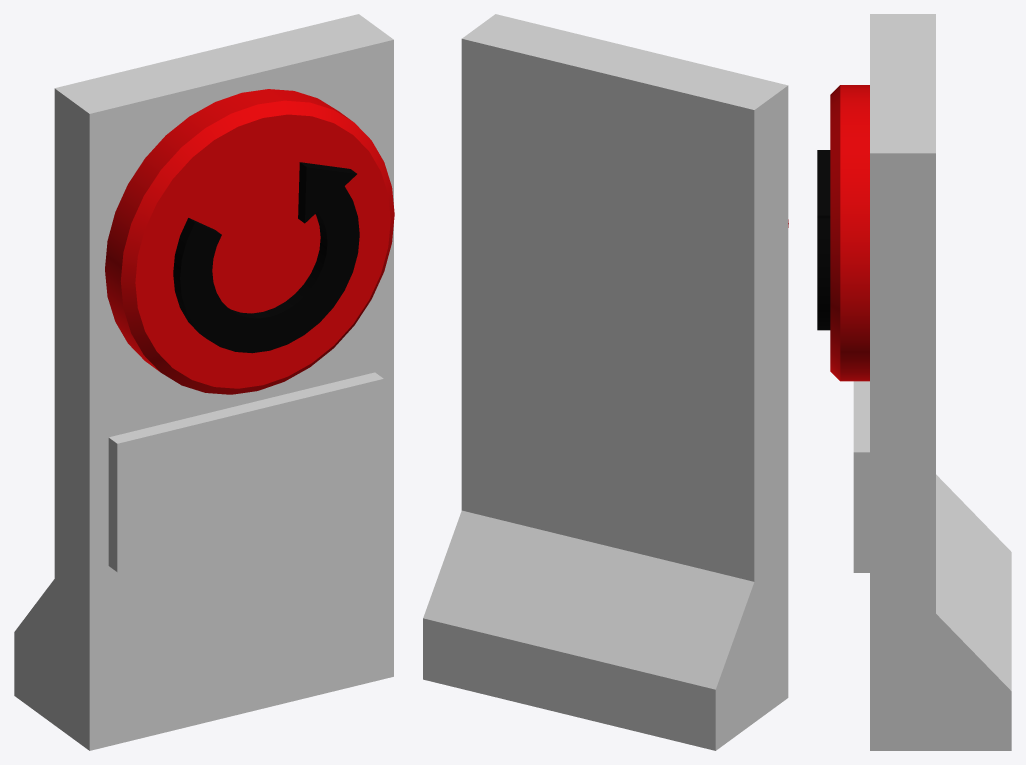
The model's file is resetbutton.glb.
3 views of the same model, side by side, from view 1: azimuth 30°, elevation 25°; view 2: azimuth 150°, elevation 25°; view 3: azimuth 270°, elevation 25° (orthographic). The views are drawn at different scales.
Parts seen in each view (by area): view 1: buttonstand, button; view 2: buttonstand; view 3: buttonstand, button.
Part boxes in pixels (x1,y1,x2,y2): buttonstand: (14,14,393,750); button: (105,89,394,394); buttonstand: (423,14,788,750); buttonstand: (853,14,1011,750); button: (817,85,869,381).
Size of the model in its own units: 2 by 4 by 1.18.
